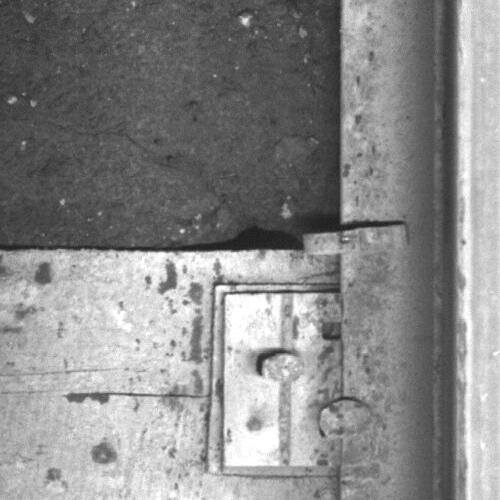crutch: (302, 221, 409, 258)
do: (222, 292, 373, 466)
hole_do: (312, 312, 354, 348)
rail: (453, 1, 500, 500)
tie_wood: (1, 250, 341, 500)
wood_crack: (62, 384, 212, 403)
